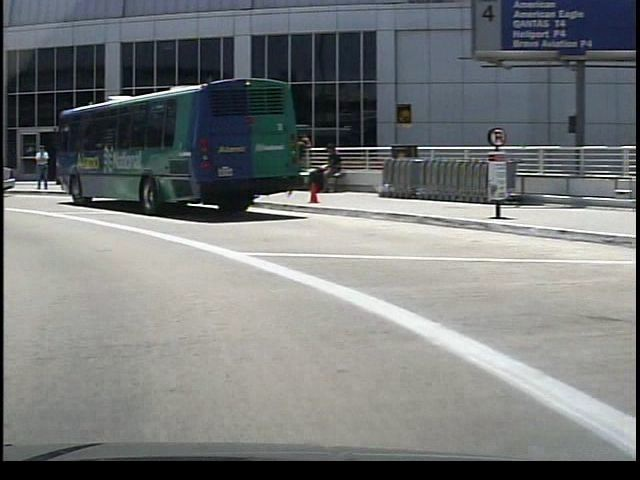person: (307, 142, 338, 198), (29, 142, 48, 194)
